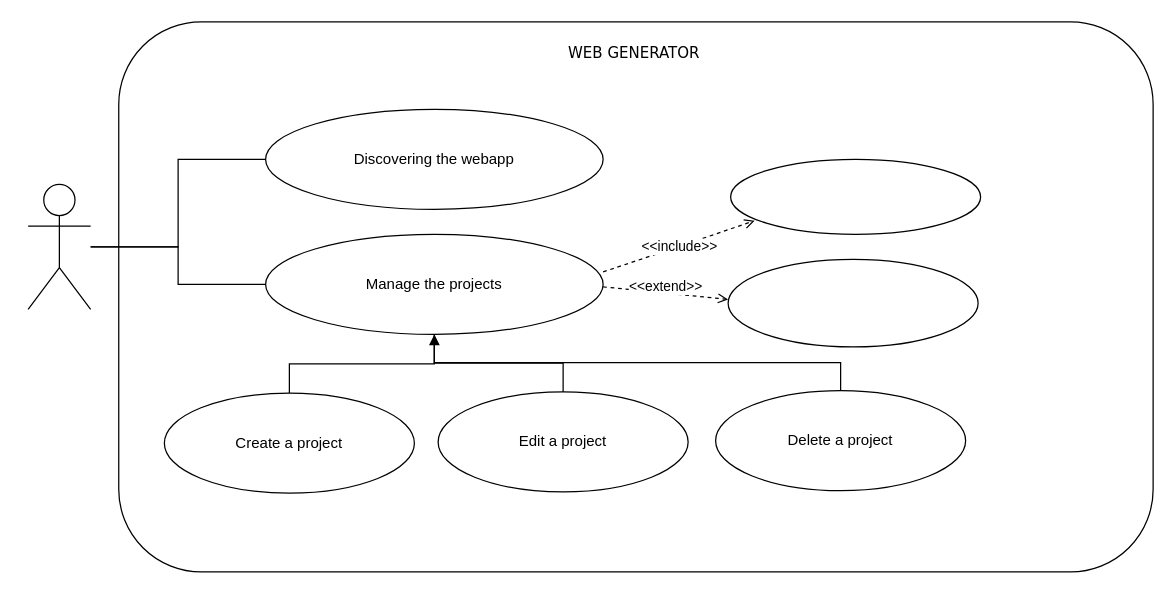
Some shapes in this 1175 by 594 pixel diagram are drawn without their labels. The shapes that lost their labels are listed below. From the top down, each one's centre as x and y in pixels, then its label:
At (855,196): "Authentification".
At (59,246): "Developper".
At (852,302): "Download the project".
